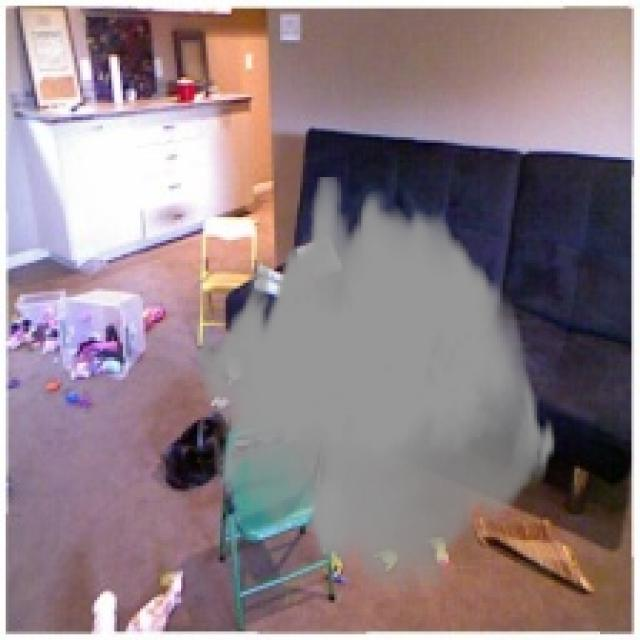smoke: (194, 177, 557, 592)
